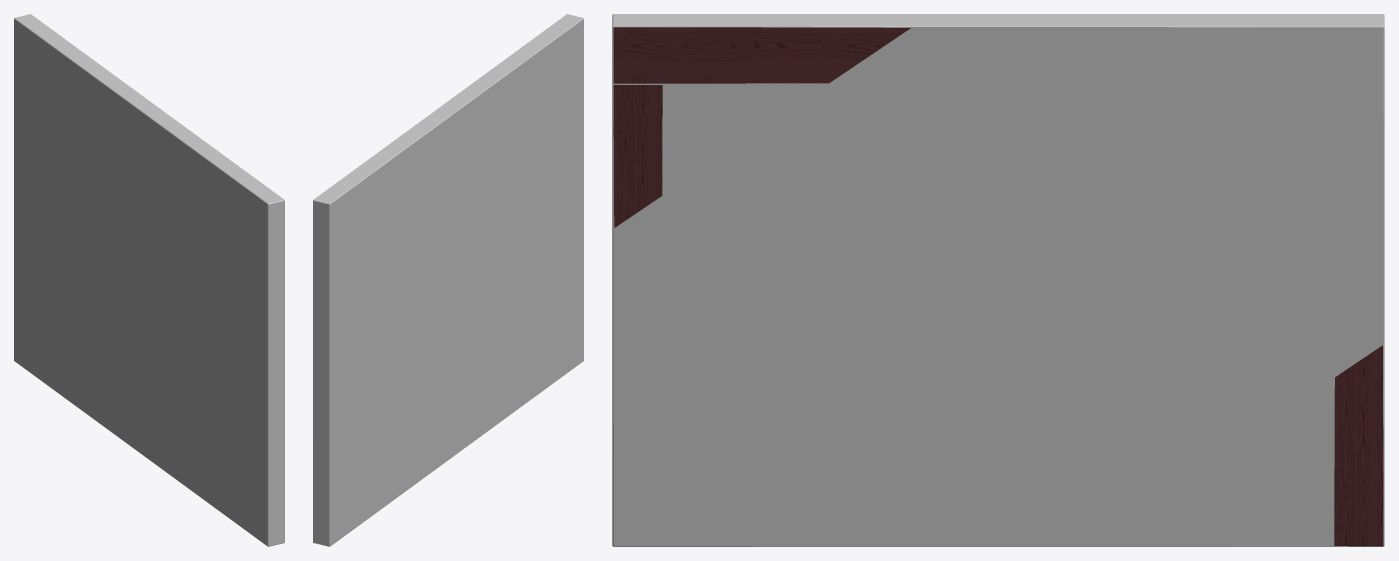
The model's file is SM_JGJM_DoorFrame_H.fbx.
3 renders of one model, left to right at view 1: azimuth 30°, elevation 25°; view 2: azimuth 150°, elevation 25°; view 3: azimuth 270°, elevation 25°, orthographic. The views are drawn at different scales.
Visible parts, largest first — view 1: SM_JGJM_DoorFrame_H_ConvexHulls; view 2: SM_JGJM_DoorFrame_H_ConvexHulls; view 3: SM_JGJM_DoorFrame_H_ConvexHulls, SM_JGJM_DoorFrame_H.
Part boxes in pixels (x1,y1,x2,y2): SM_JGJM_DoorFrame_H_ConvexHulls: (14,14,284,546); SM_JGJM_DoorFrame_H_ConvexHulls: (313,14,583,546); SM_JGJM_DoorFrame_H_ConvexHulls: (612,14,1384,546); SM_JGJM_DoorFrame_H: (613,27,1383,546).
Bounding box in the file's own units: 11.46 × 292 × 217.
Materials: 2 (1 with a texture image).
